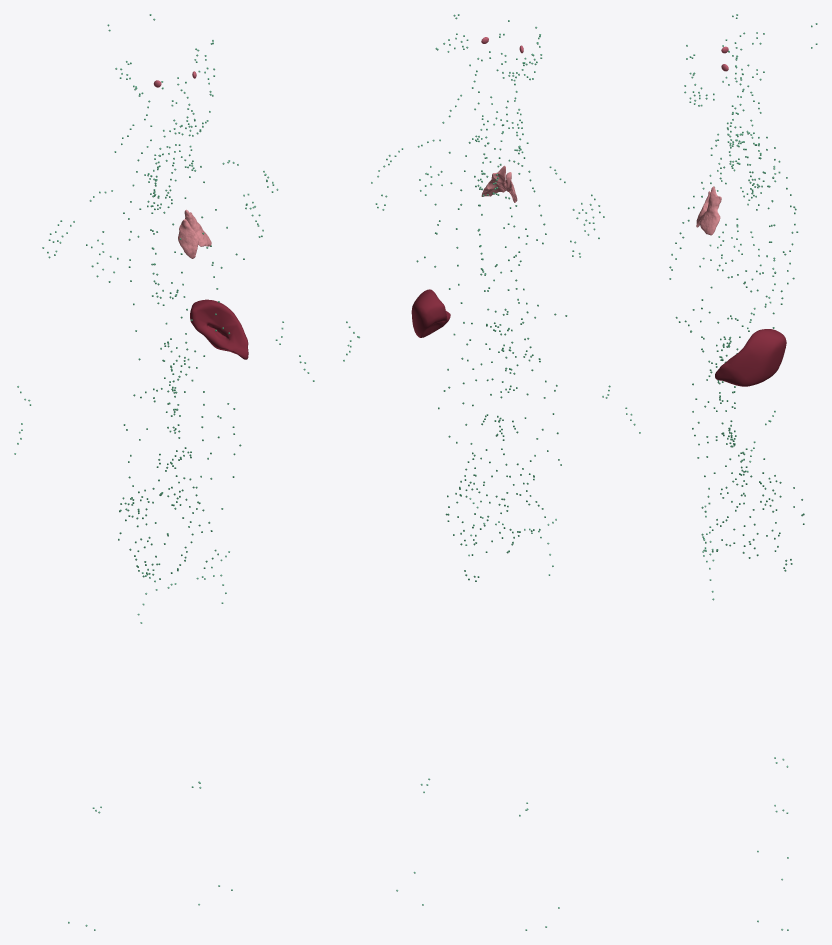
File: lymphatic_nodes_organs_zanatomy.glb
3 renders of one model, left to right at view 1: azimuth 30°, elevation 25°; view 2: azimuth 150°, elevation 25°; view 3: azimuth 270°, elevation 25°, orthographic.
Visible parts, largest first — view 1: ZAnatomy_spleen_Spleen; view 2: ZAnatomy_spleen_Spleen; view 3: ZAnatomy_spleen_Spleen, ZAnatomy_thymus_Left_lobe_of_thymus.
Boxes of the visible parts, left/top/right/bottom form: ZAnatomy_spleen_Spleen: left=190, top=299, right=248, bottom=359; ZAnatomy_spleen_Spleen: left=411, top=289, right=450, bottom=337; ZAnatomy_spleen_Spleen: left=715, top=329, right=786, bottom=386; ZAnatomy_thymus_Left_lobe_of_thymus: left=699, top=186, right=721, bottom=235.
Bounding box in the file's own units: 45.23 × 128 × 19.63.
